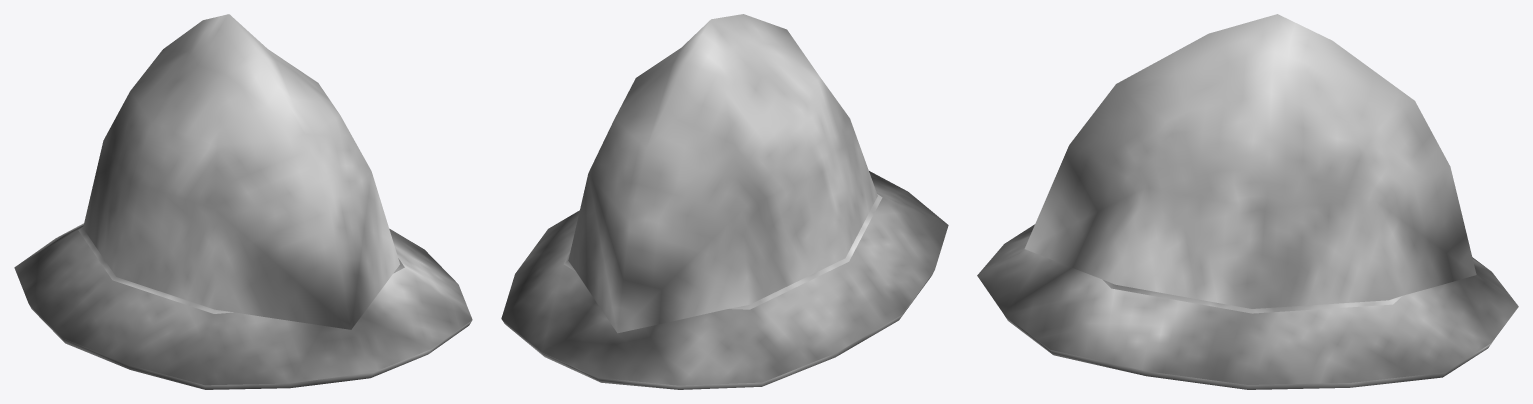
File: helmet_morrion_simples.dae
3 views of the same model, side by side, from view 1: azimuth 30°, elevation 25°; view 2: azimuth 150°, elevation 25°; view 3: azimuth 270°, elevation 25° (orthographic). The views are drawn at different scales.
Parts seen in each view (by area): view 1: morrion_simples; view 2: morrion_simples; view 3: morrion_simples.
Part boxes in pixels (<box>): morrion_simples: <box>14,14,472,389</box>; morrion_simples: <box>501,14,948,389</box>; morrion_simples: <box>977,14,1518,389</box>.
Bounding box in the file's own units: 0.6236 × 0.7788 × 0.4769.
